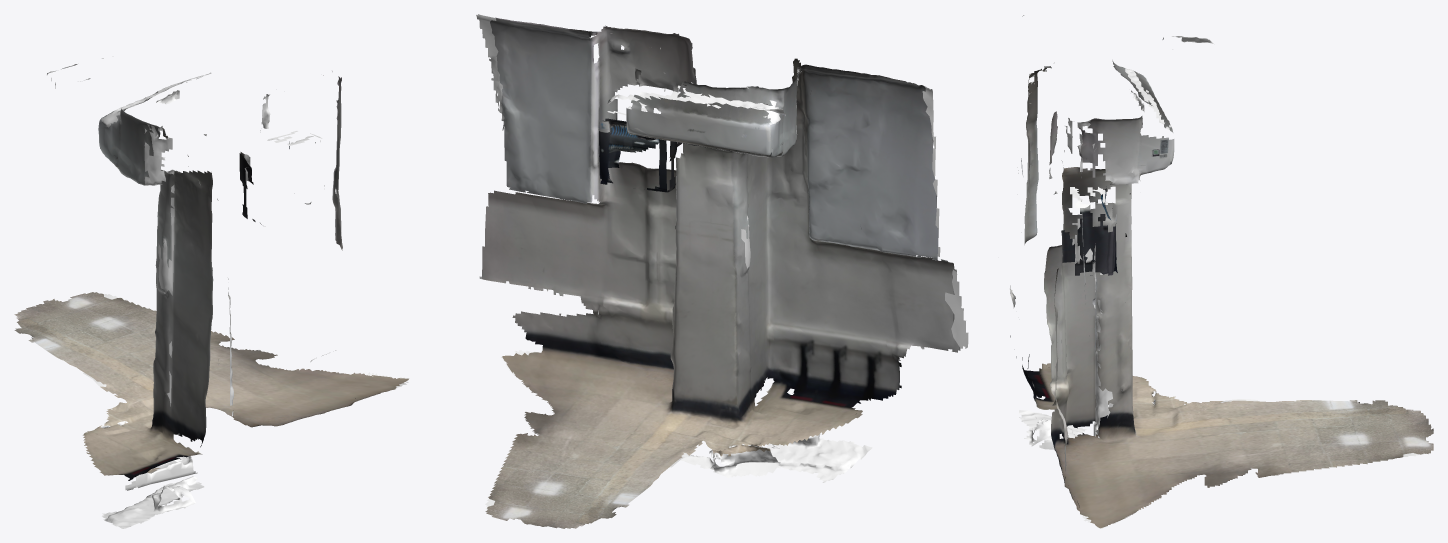
3 views of the same model, side by side, from view 1: azimuth 30°, elevation 25°; view 2: azimuth 150°, elevation 25°; view 3: azimuth 270°, elevation 25° (orthographic).
Parts seen in each view (by area): view 1: texture_1, texture_0, texture_2, object 1; view 2: texture_1, texture_0, texture_2, object 1; view 3: texture_0, texture_2, texture_1, object 1.
Boxes of the visible parts, x1=… form: texture_1: x1=77, y1=78, x2=213, y2=480; texture_0: x1=95, y1=71, x2=408, y2=475; texture_2: x1=14, y1=58, x2=320, y2=379; object 1: x1=47, y1=71, x2=408, y2=528; texture_1: x1=646, y1=58, x2=960, y2=455; texture_0: x1=482, y1=17, x2=887, y2=500; texture_2: x1=485, y1=29, x2=678, y2=528; object 1: x1=476, y1=14, x2=968, y2=509; texture_0: x1=1024, y1=108, x2=1403, y2=528; texture_2: x1=1049, y1=37, x2=1433, y2=475; texture_1: x1=1010, y1=15, x2=1223, y2=436; object 1: x1=1017, y1=38, x2=1423, y2=528.
Size of the model in its own units: 3.98 by 3.46 by 3.43.
4 materials, 3 textured.
